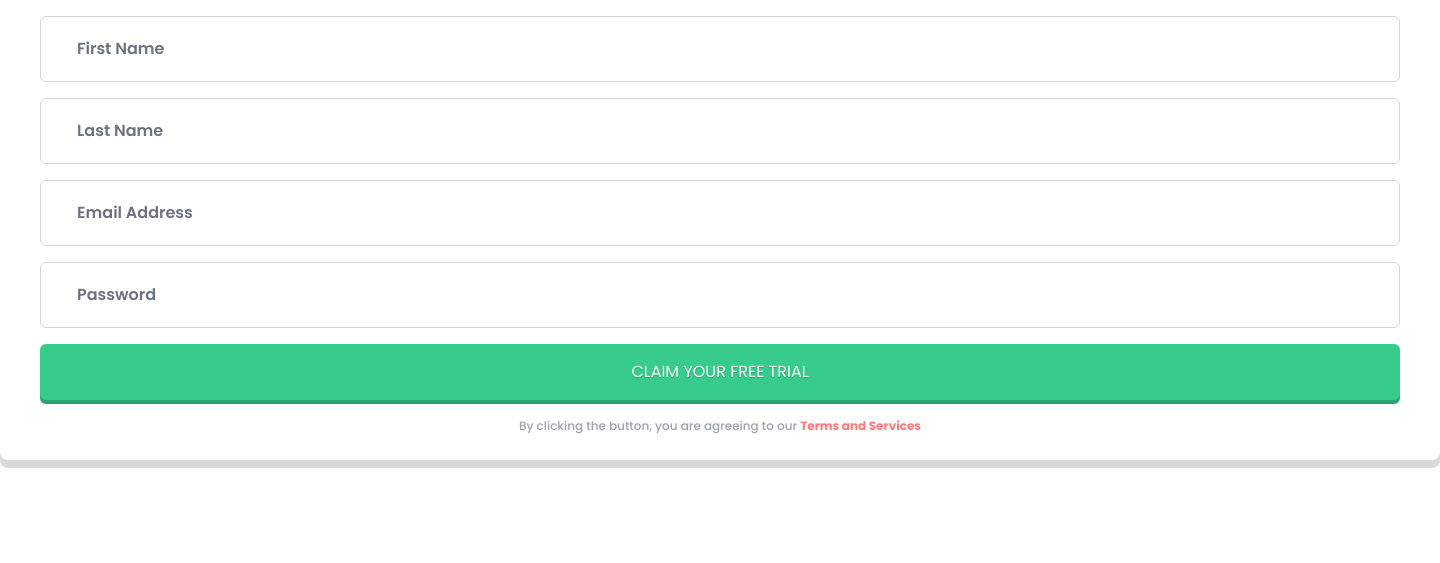
Signup form › Displays required error when first name is missing
The width and height of the screenshot is (1440, 563).
Click the button "Claim your free trial" at x=720, y=372, box top-left (40, 344), bottom-right (1400, 400)
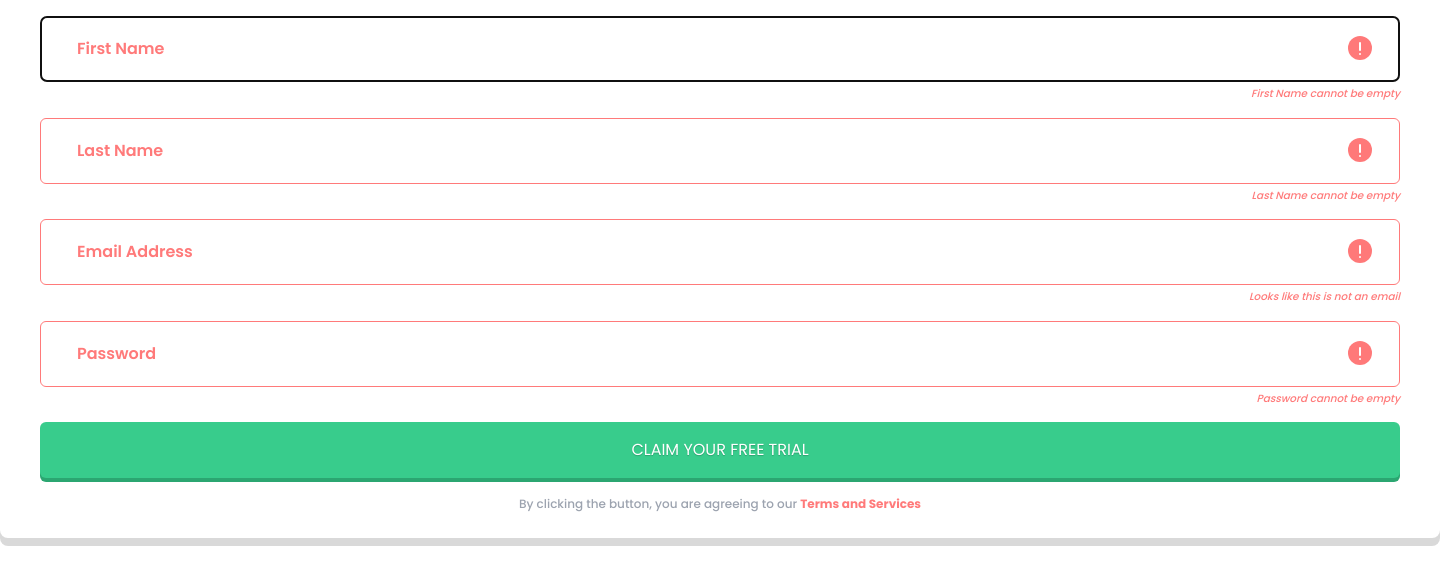
Result: the text "First Name cannot be empty" is shown at top-left (1251, 86), bottom-right (1400, 101)
